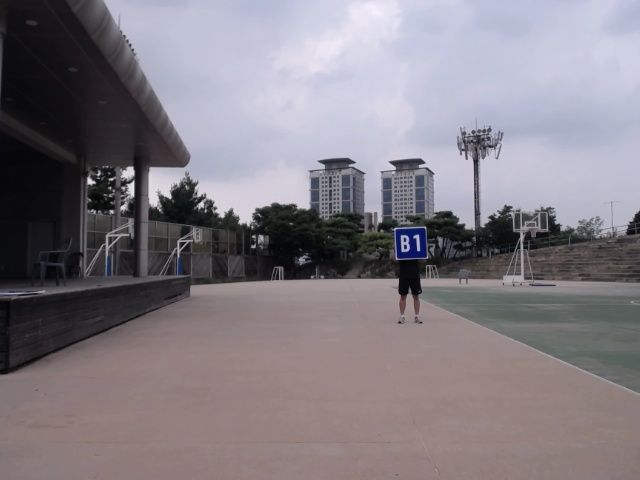delivery_b1: (395, 226, 428, 260)
